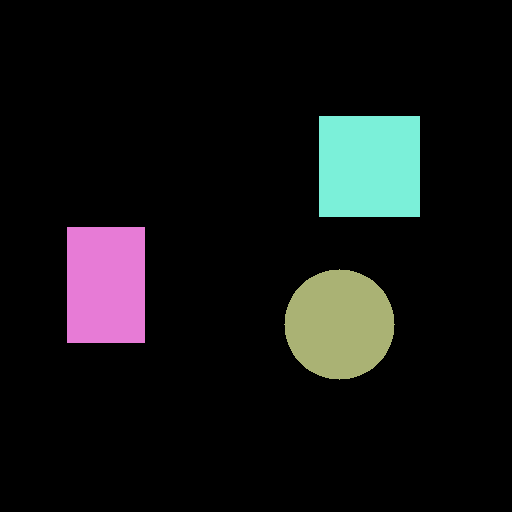circle: (284, 269, 394, 379)
rectangle: (67, 227, 144, 342)
square: (319, 116, 419, 216)
